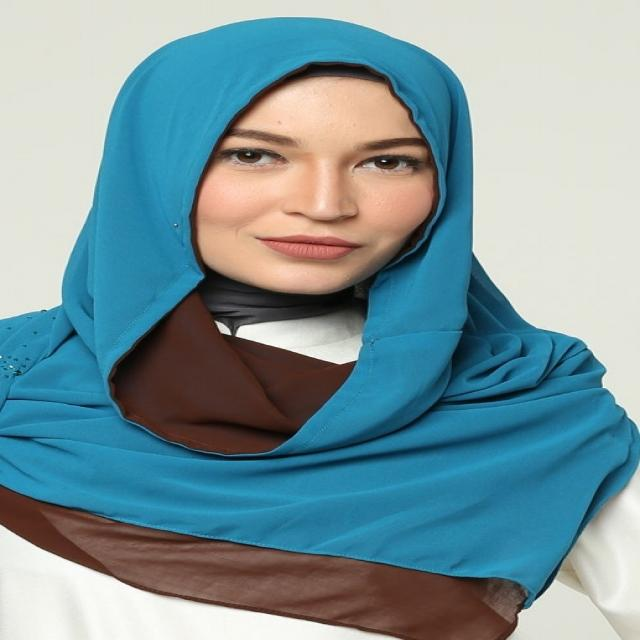head: (126, 21, 487, 294)
